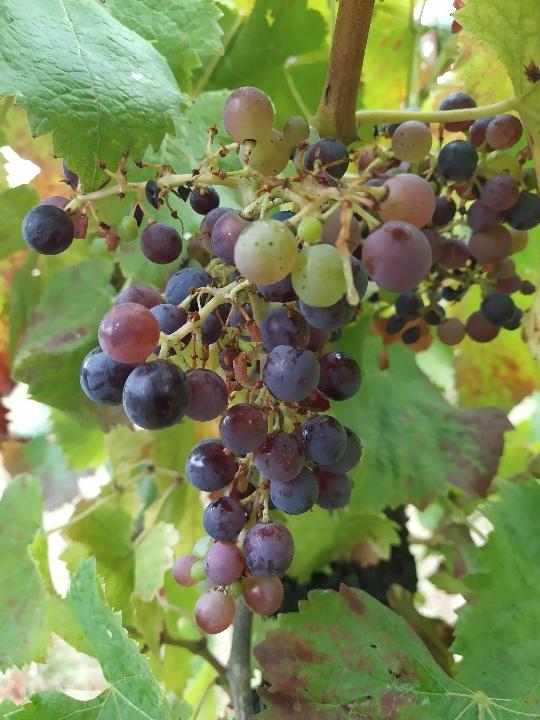grape: (20, 82, 540, 639)
